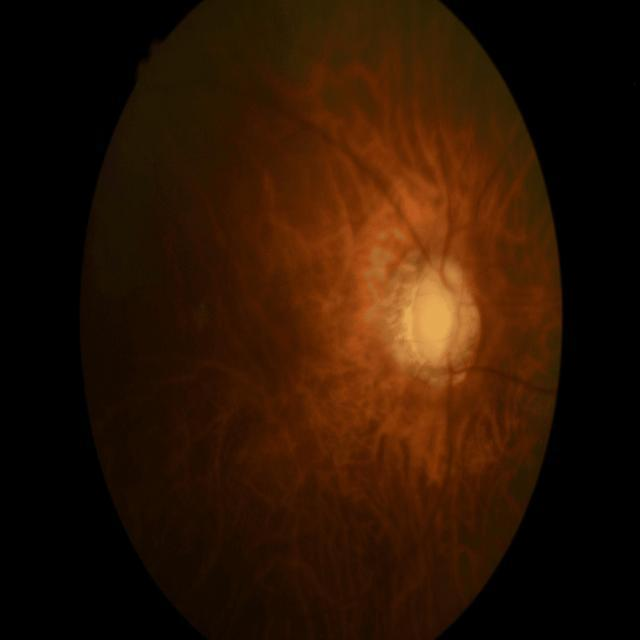cup: (407, 278, 467, 363)
disk: (400, 258, 485, 384)
